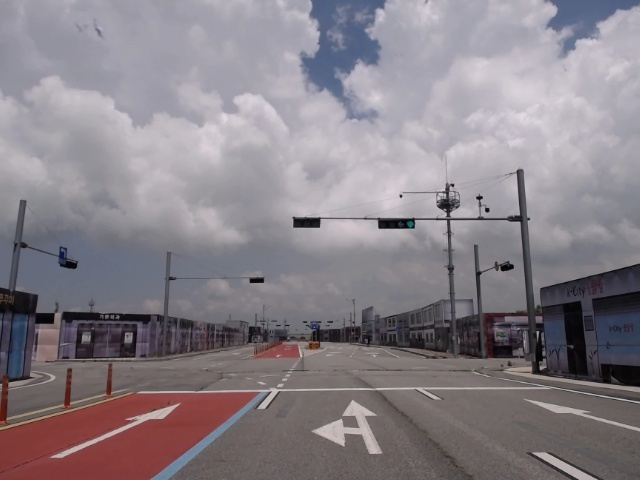all_green_4: (379, 218, 415, 231)
